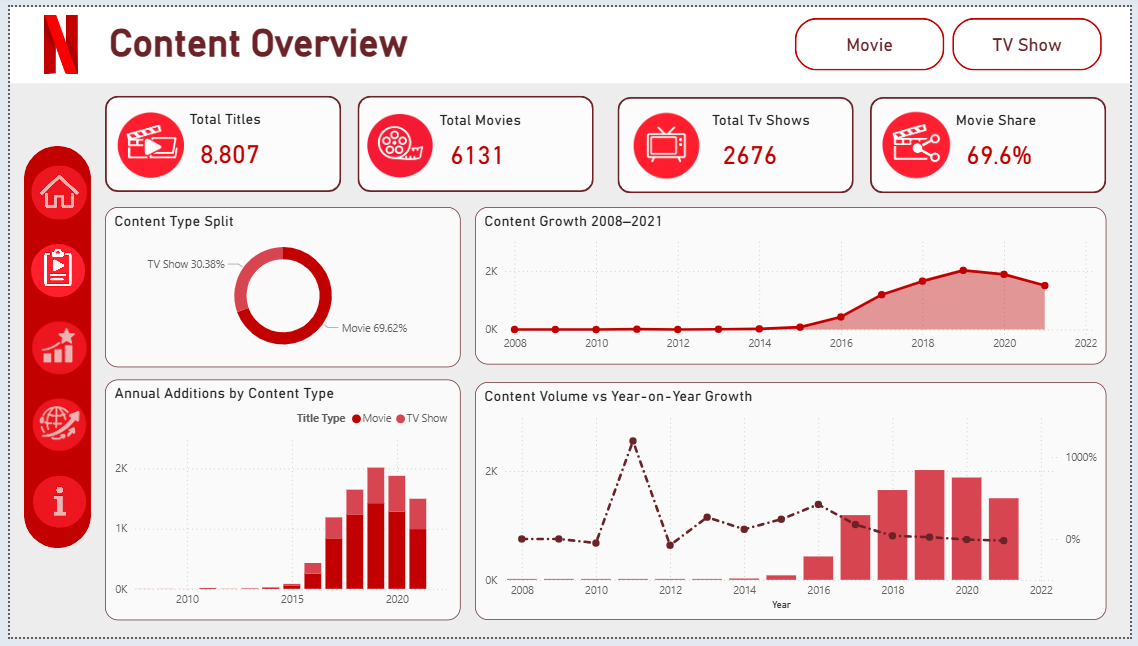

Layout of this report page (visuals, bound fields, positions):
{"tool":"powerbi","page":{"name":"Content Overview","canvas":[1280,720],"ordinal":1},"visuals":[{"type":"shape","box":[0,0,1280,720],"z":0},{"type":"shape","box":[0,86.7,1280,633.3],"z":2000},{"type":"actionButton","box":[23.3,8.3,70,68.3],"z":4000},{"type":"shape","box":[15.7,158.6,77.1,460],"z":6000},{"type":"advancedSlicerVisual","fields":{"Values":["netflix_titles.type"]},"box":[893.3,8.3,360,68.3],"z":7000},{"type":"donutChart","title":"Content Type Split","fields":{"Y":["Measures (2).Total Titles"],"Category":["netflix_titles.type"]},"box":[108.3,228.3,406.7,183.3],"z":8000},{"type":"areaChart","title":"Content Growth 2008–2021","fields":{"Category":["Date_Table.Year"],"Y":["Measures (2).Titles Per Year"]},"box":[531.7,228.3,721.7,180],"z":9000},{"type":"columnChart","title":"Annual Additions by Content Type","fields":{"Category":["Date_Table.Year"],"Y":["Measures (2).Total Titles"],"Series":["netflix_titles.type"]},"box":[108.3,425,406.7,275],"z":10000},{"type":"lineClusteredColumnComboChart","title":"Content Volume vs Year-on-Year Growth","fields":{"Category":["Date_Table.Year"],"Y":["Measures (2).Titles Per Year"],"Y2":["Measures (2).YoY Growth %"]},"box":[531.7,428.3,721.7,271.7],"z":11000},{"type":"shape","box":[108.3,101.7,270,110],"z":12000},{"type":"shape","box":[695,103.3,270,110],"z":13000},{"type":"shape","box":[396.7,101.7,270,110],"z":14000},{"type":"shape","box":[983.3,103.3,270,110],"z":15000},{"type":"image","box":[406.7,118.3,78.3,78.3],"z":16000},{"type":"image","box":[121.7,116.7,78.3,80],"z":17000},{"type":"image","box":[995,118.3,80,78.3],"z":18000},{"type":"image","box":[710,118.3,80,78.3],"z":19000},{"type":"cardVisual","title":"Total Titles","fields":{"Data":["Measures (2).Total Titles"]},"box":[200,116.7,153.3,80],"z":20000},{"type":"cardVisual","title":"Total Movies","fields":{"Data":["Measures (2).Total Movies"]},"box":[485,118.3,155,78.3],"z":21000},{"type":"cardVisual","title":"Movie Share","fields":{"Data":["Measures (2).Movie %"]},"box":[1075,118.3,153.3,78.3],"z":22000},{"type":"cardVisual","title":"Total Tv Shows","fields":{"Data":["Measures (2).Total TV Shows"]},"box":[796.7,118.3,153.3,78.3],"z":23000},{"type":"textbox","box":[108.3,11.7,370,68.3],"z":24000},{"type":"actionButton","box":[24.3,181.4,64.3,61.4],"z":25000},{"type":"actionButton","box":[22.9,269.6,64.3,61.4],"z":26000},{"type":"actionButton","box":[24.3,357.9,64.3,61.4],"z":27000},{"type":"actionButton","box":[24.3,446.1,64.3,61.4],"z":28000},{"type":"actionButton","box":[24.3,534.3,64.3,61.4],"z":29000}]}

Visuals, with their boxes in screenshot pixels (x1, y1, x2, y2), scaled from the page's 1280x720 canvas onto the 1138x646 screenshot:
shape: bbox=(0, 0, 1137, 645)
shape: bbox=(0, 78, 1137, 645)
actionButton: bbox=(21, 7, 83, 69)
shape: bbox=(14, 142, 83, 555)
advancedSlicerVisual - netflix_titles.type: bbox=(794, 7, 1114, 69)
"Content Type Split" donutChart: bbox=(96, 205, 458, 369)
"Content Growth 2008–2021" areaChart: bbox=(473, 205, 1114, 366)
"Annual Additions by Content Type" columnChart: bbox=(96, 381, 458, 628)
"Content Volume vs Year-on-Year Growth" lineClusteredColumnComboChart: bbox=(473, 384, 1114, 628)
shape: bbox=(96, 91, 336, 190)
shape: bbox=(618, 93, 858, 191)
shape: bbox=(353, 91, 593, 190)
shape: bbox=(874, 93, 1114, 191)
image: bbox=(362, 106, 431, 176)
image: bbox=(108, 105, 178, 176)
image: bbox=(885, 106, 956, 176)
image: bbox=(631, 106, 702, 176)
"Total Titles" cardVisual: bbox=(178, 105, 314, 176)
"Total Movies" cardVisual: bbox=(431, 106, 569, 176)
"Movie Share" cardVisual: bbox=(956, 106, 1092, 176)
"Total Tv Shows" cardVisual: bbox=(708, 106, 845, 176)
textbox: bbox=(96, 10, 425, 72)
actionButton: bbox=(22, 163, 79, 218)
actionButton: bbox=(20, 242, 78, 297)
actionButton: bbox=(22, 321, 79, 376)
actionButton: bbox=(22, 400, 79, 455)
actionButton: bbox=(22, 479, 79, 534)
